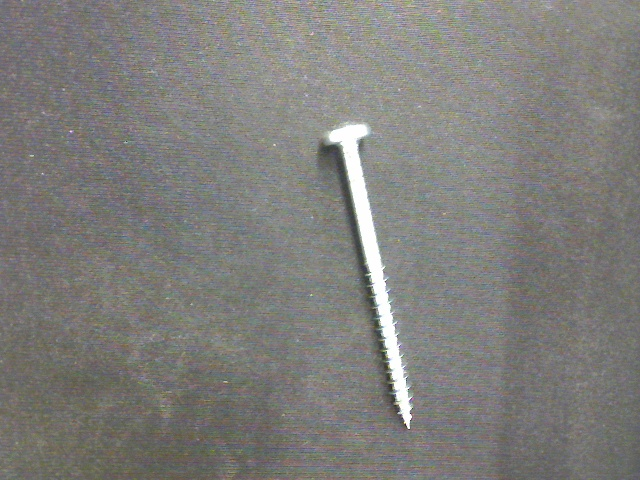Screw: (321, 121, 412, 430)
